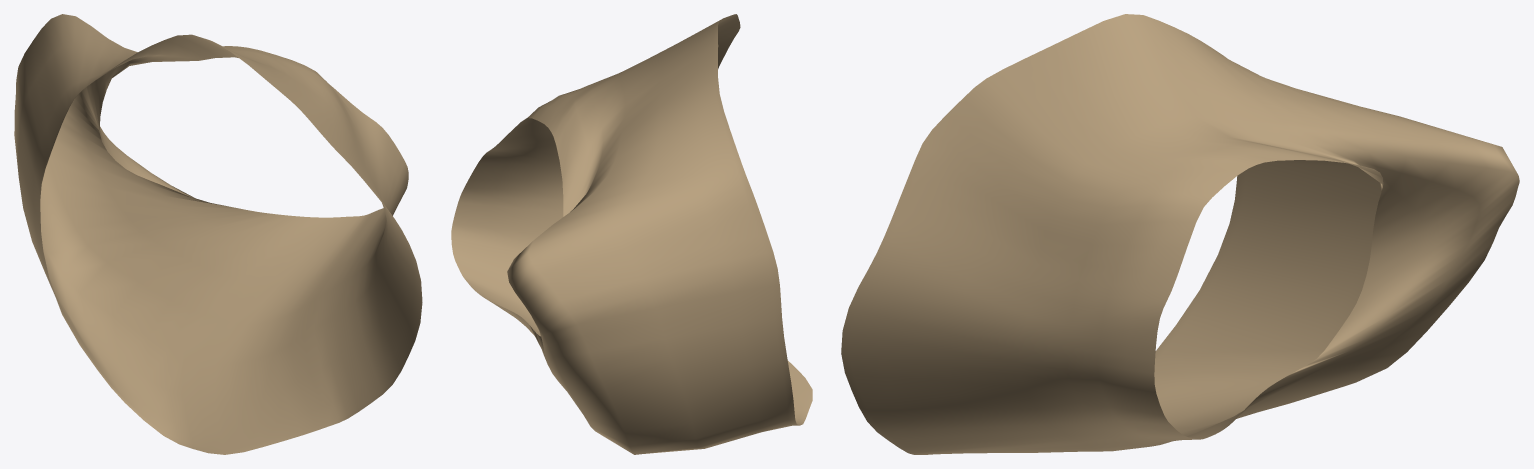
3 renders of one model, left to right at view 1: azimuth 30°, elevation 25°; view 2: azimuth 150°, elevation 25°; view 3: azimuth 270°, elevation 25°, orthographic. The views are drawn at different scales.
Parts seen in each view (by area): view 1: 左侧髋关节囊; view 2: 左侧髋关节囊; view 3: 左侧髋关节囊.
Boxes of the visible parts, box(x1,y1,x2,y2) form: 左侧髋关节囊: box(14, 14, 422, 454); 左侧髋关节囊: box(451, 14, 812, 454); 左侧髋关节囊: box(841, 14, 1519, 454).
Size of the model in its own units: 0.0797 by 0.0844 by 0.1159.
